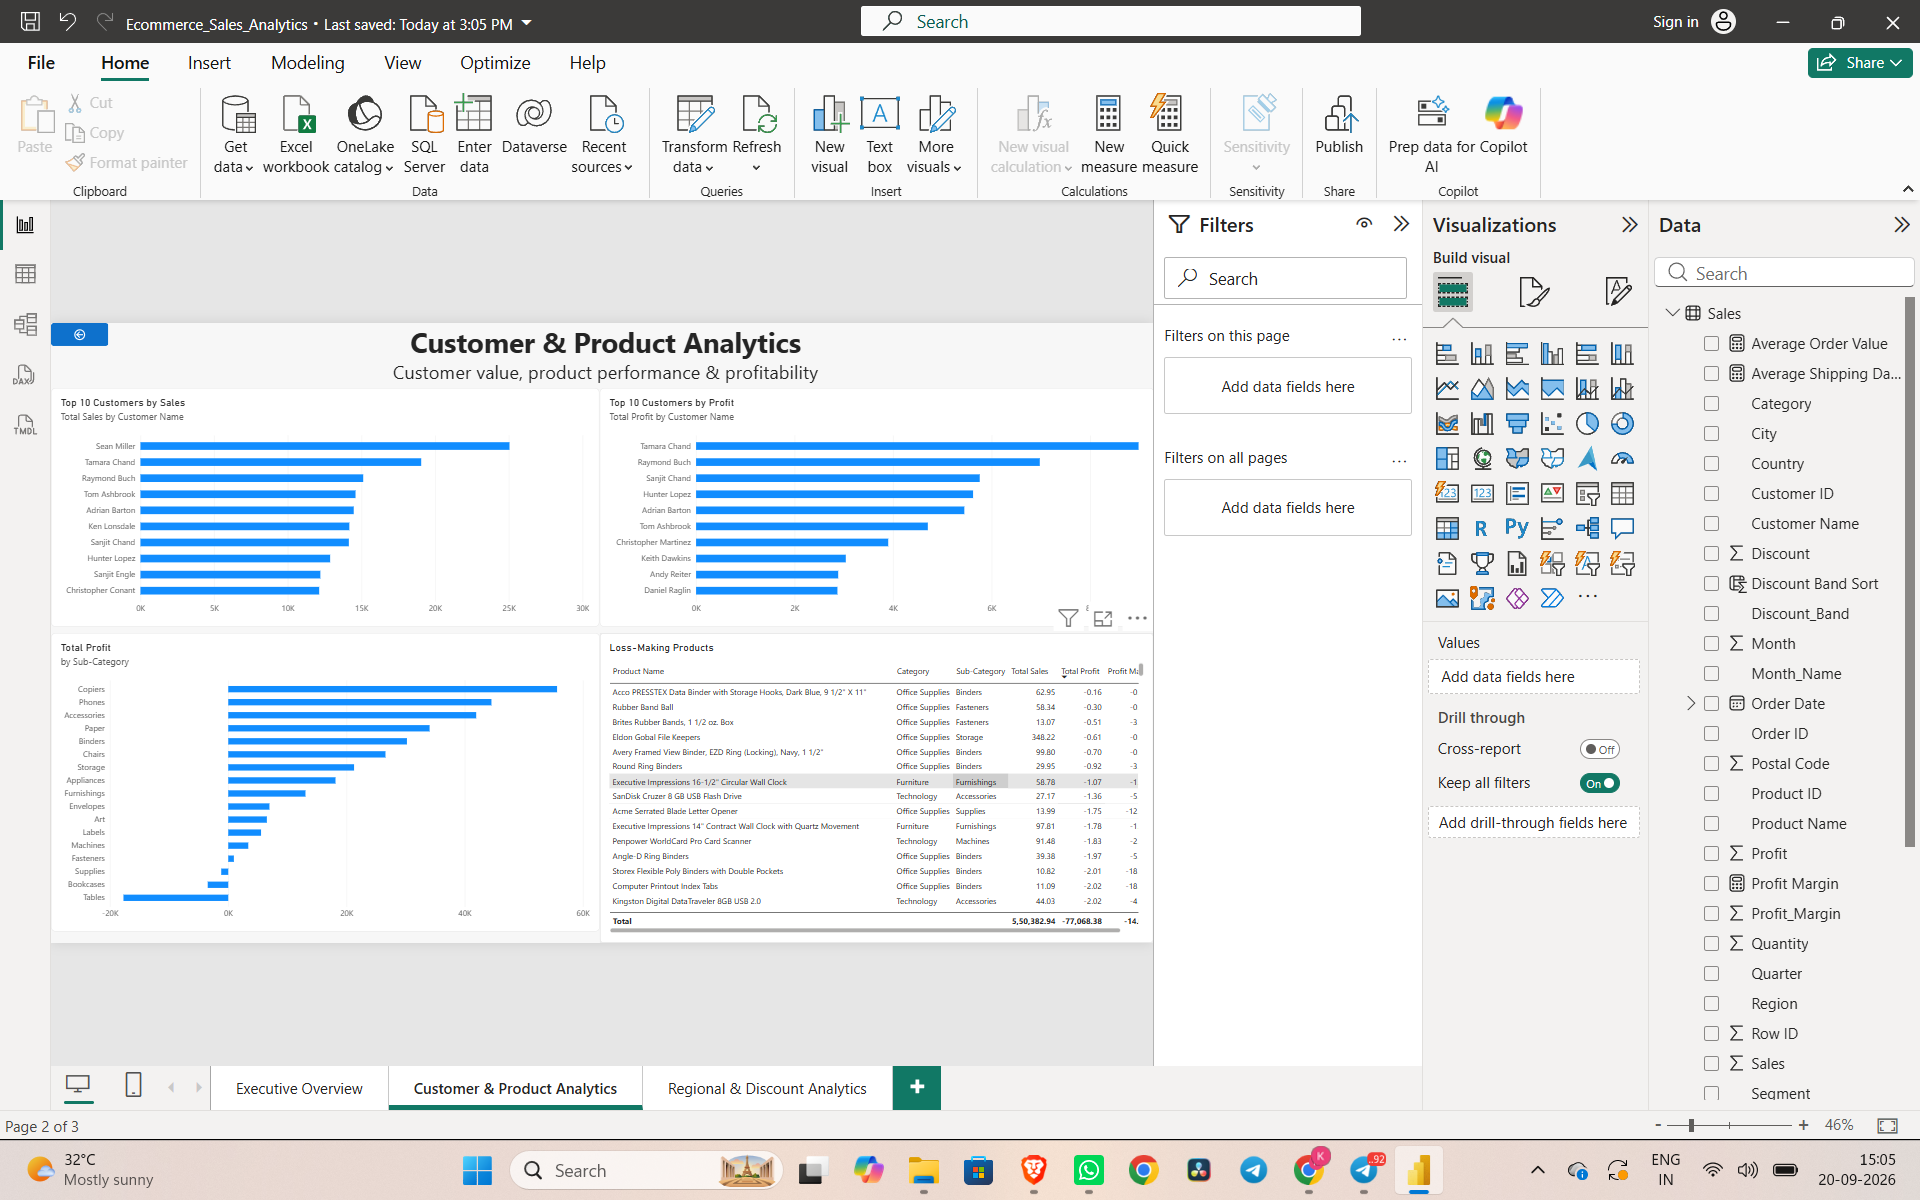

The page's visual inventory and layout, read from the dashboard file:
{"tool":"powerbi","page":{"name":"Customer & Product Analytics","canvas":[1920,1080],"ordinal":1},"visuals":[{"type":"textbox","box":[10.3,0,1910.1,113.2],"z":0},{"type":"clusteredBarChart","title":"Top 10 Customers by Sales","fields":{"Category":["Sales.Customer Name"],"Y":["Sales.Total Sales"]},"box":[0,113.2,955.1,415.8],"z":1000},{"type":"clusteredBarChart","title":"Top 10 Customers by Profit","fields":{"Category":["Sales.Customer Name"],"Y":["Sales.Total Profit"]},"box":[955.1,113.2,965.4,415.8],"z":2000},{"type":"clusteredBarChart","fields":{"Category":["Sales.Sub-Category"],"Y":["Sales.Total Profit"]},"box":[0,540,955.9,520.4],"z":3000},{"type":"tableEx","title":"Loss-Making Products","fields":{"Values":["Sales.Product Name","Sales.Category","Sales.Sub-Category","Sales.Total Sales","Sales.Total Profit","Sales.Profit Margin"]},"box":[955.9,540,964.6,540],"z":4000},{"type":"actionButton","box":[0,0,100,40],"z":5000}]}

Visuals, with their boxes on the page's 1920x1080 design canvas (x1, y1, x2, y2). These are canvas units, not pixel positions in the 1920x1200 screenshot, which may show the page scaled, cropped or inside an application window:
textbox: l=10, t=0, r=1920, b=113
"Top 10 Customers by Sales" clusteredBarChart: l=0, t=113, r=955, b=529
"Top 10 Customers by Profit" clusteredBarChart: l=955, t=113, r=1920, b=529
clusteredBarChart - Sales.Sub-Category x Sales.Total Profit: l=0, t=540, r=956, b=1060
"Loss-Making Products" tableEx: l=956, t=540, r=1920, b=1080
actionButton: l=0, t=0, r=100, b=40
